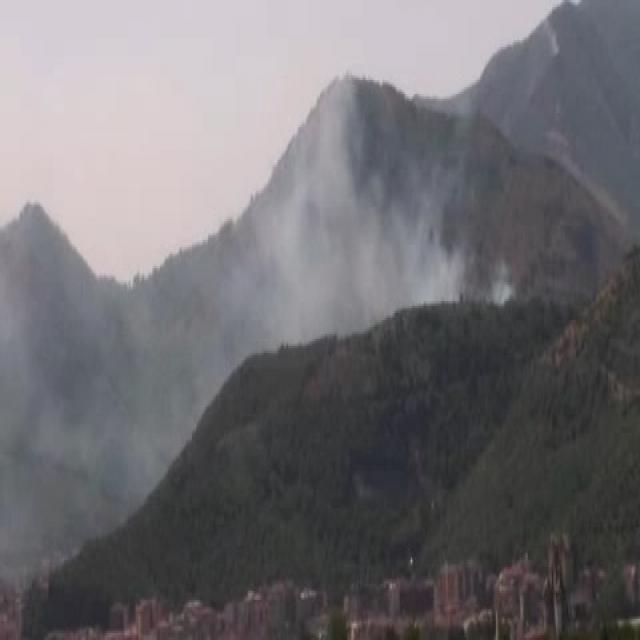smoke: (242, 90, 457, 326), (22, 297, 166, 495)
